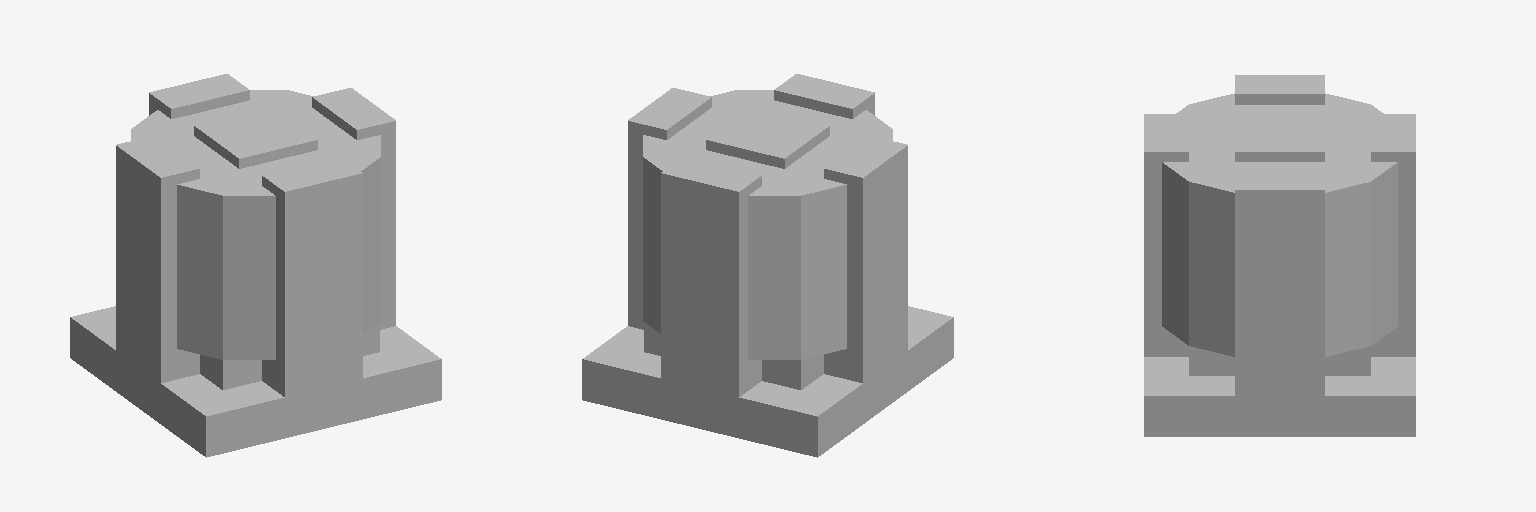
The model's file is induction_furnace.obj.
3 renders of one model, left to right at view 1: azimuth 30°, elevation 25°; view 2: azimuth 150°, elevation 25°; view 3: azimuth 270°, elevation 25°, orthographic.
Parts seen in each view (by area): view 1: base, cylinder, top; view 2: base, cylinder, top; view 3: base, cylinder, top.
Boxes of the visible parts, <box> form: base: <box>70,74,441,457</box>; cylinder: <box>131,90,380,359</box>; top: <box>194,107,317,168</box>; base: <box>582,74,953,457</box>; cylinder: <box>643,90,892,359</box>; top: <box>706,107,829,168</box>; base: <box>1144,75,1415,436</box>; cylinder: <box>1162,93,1397,356</box>; top: <box>1235,114,1324,161</box>.
Size of the model in its own units: 3 by 3 by 3.